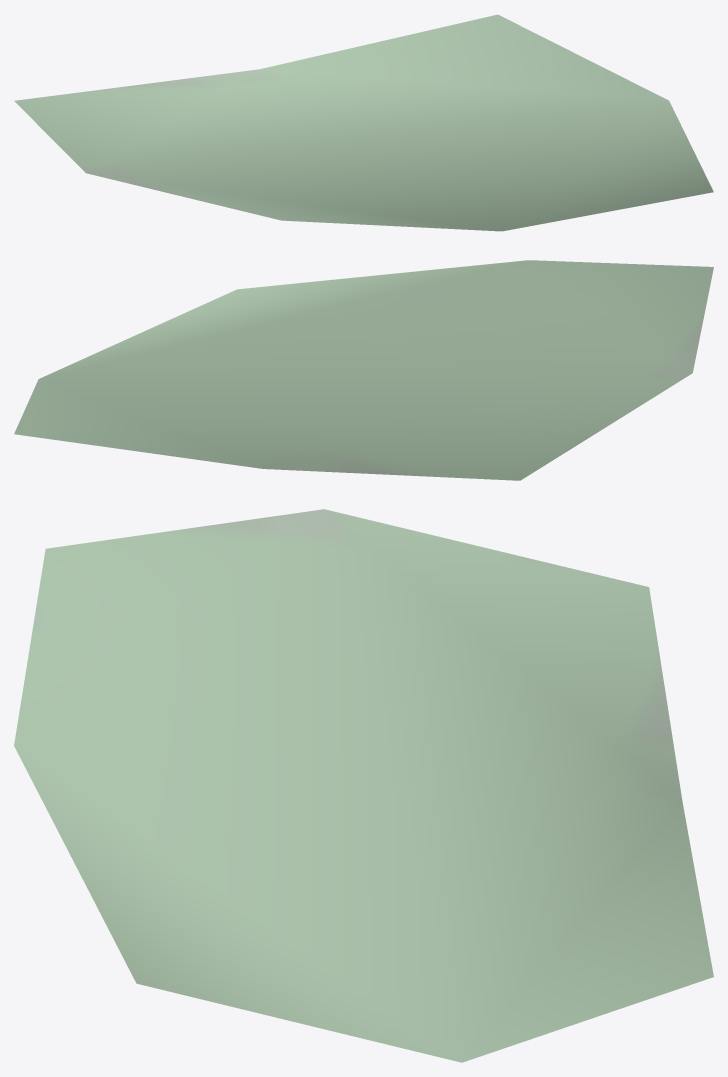
Rendered from TROLLHOLE02_HOLECAP189.fbx.
The picture shows the model from 3 angles, top to bottom: view 1: azimuth 30°, elevation 25°; view 2: azimuth 150°, elevation 25°; view 3: azimuth 270°, elevation 25°; orthographic projection. The views are drawn at different scales.
Visible parts, largest first — view 1: TROLLHOLE02_HOLECAP189; view 2: TROLLHOLE02_HOLECAP189; view 3: TROLLHOLE02_HOLECAP189.
Part boxes in pixels (x1,y1,x2,y2): TROLLHOLE02_HOLECAP189: (14,14,713,231); TROLLHOLE02_HOLECAP189: (14,260,713,480); TROLLHOLE02_HOLECAP189: (14,509,713,1062).
Bounding box in the file's own units: 14433 × 2890 × 10744.
1 material, 1 textured.
